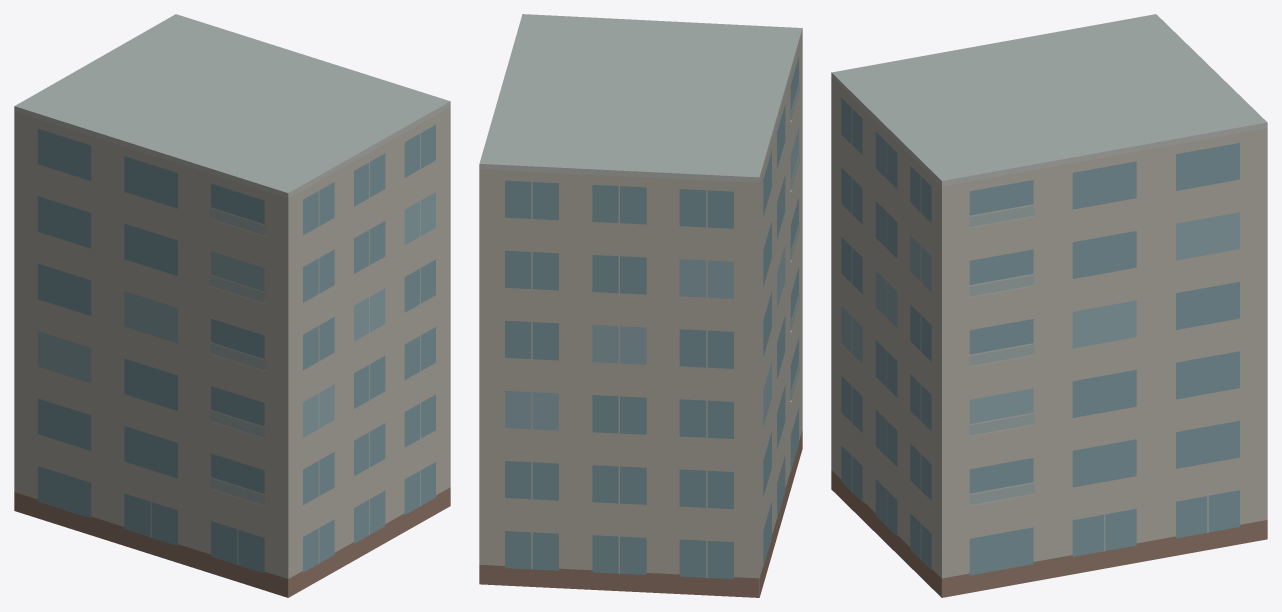
Rendered from survey-upis-32582851.glb.
3 views of the same model, side by side, from view 1: azimuth 30°, elevation 25°; view 2: azimuth 150°, elevation 25°; view 3: azimuth 270°, elevation 25° (orthographic). The views are drawn at different scales.
Parts seen in each view (by area): view 1: survey-upis-32582851.tmp; view 2: survey-upis-32582851.tmp; view 3: survey-upis-32582851.tmp.
Boxes of the visible parts, x1,y1,x2,y2 form: survey-upis-32582851.tmp: (14, 14, 450, 597); survey-upis-32582851.tmp: (479, 14, 802, 597); survey-upis-32582851.tmp: (831, 14, 1267, 597).
Bounding box in the file's own units: 15.73 × 18.3 × 17.36.
